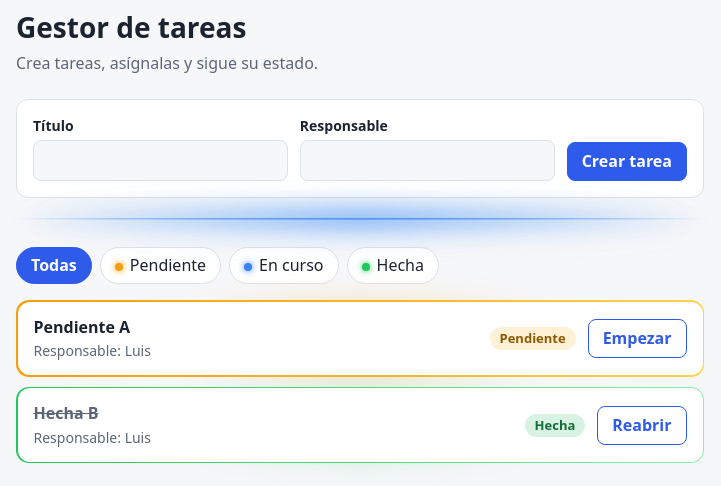
Test case: App (integración) › carga la lista y cada filtro pide al servidor solo ese estado
Expected: the text "Pendiente A" is shown, [34, 316, 130, 338]
Expected: the text "Hecha B" is shown, [34, 402, 98, 424]
Step 1. Click the button "Hecha" → (393, 266), box [346, 247, 439, 284]
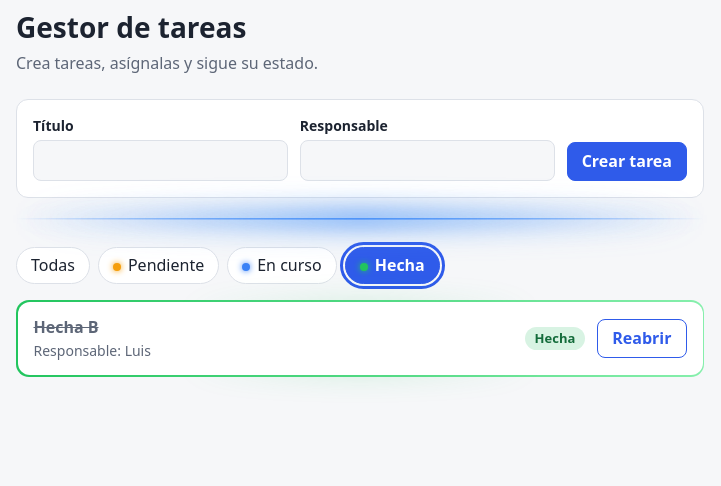
Expected: the text "Hecha B" is shown, [34, 316, 98, 338]
Expected: the text "Pendiente A" is gone
